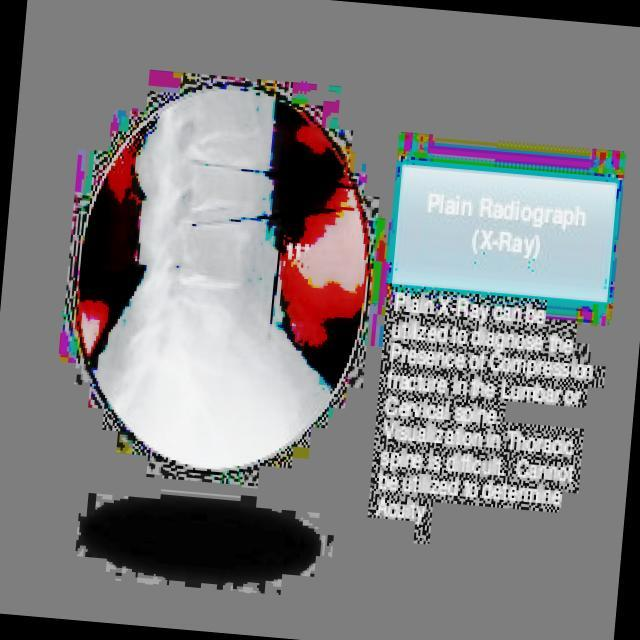Compression-Crush Fracutre: (183, 157, 254, 214)
